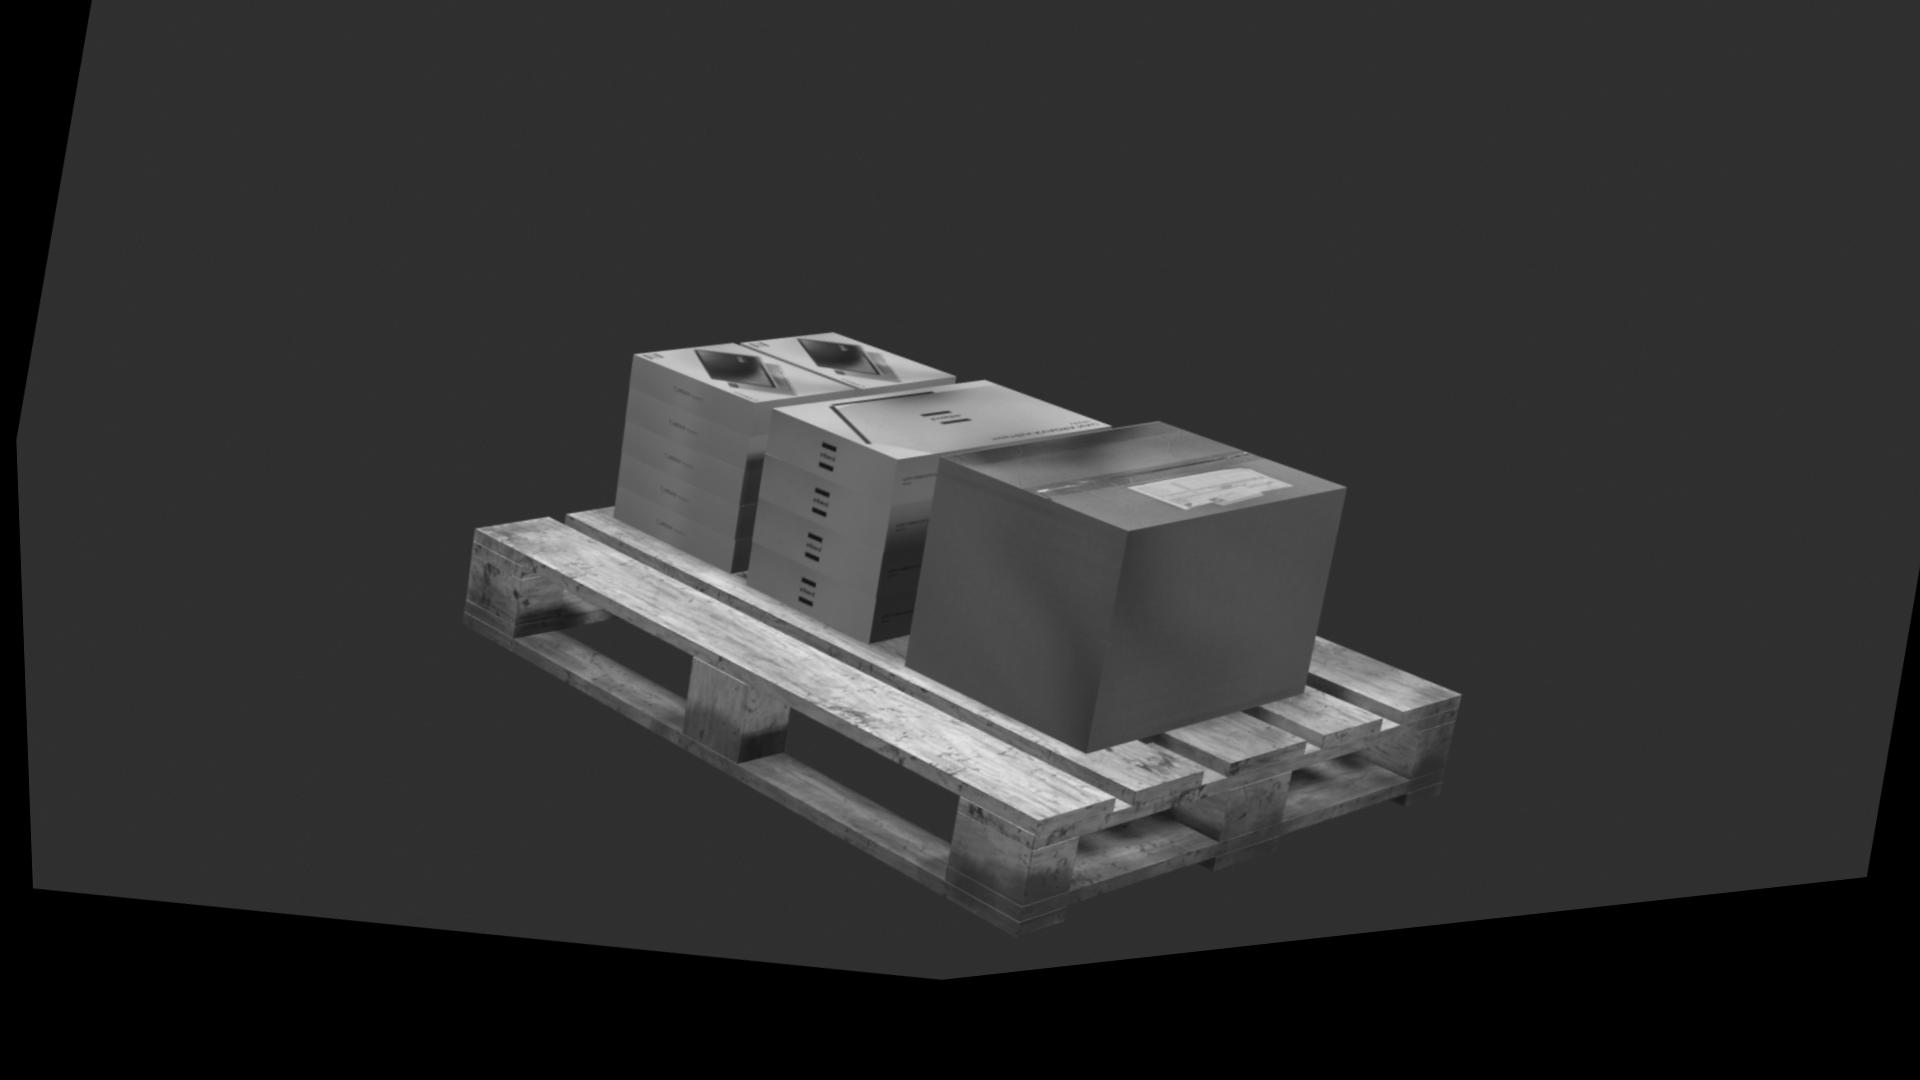group_box_left: (899, 477, 1341, 778)
group_box_top: (936, 447, 1340, 556)
laptop_left: (753, 471, 927, 574), (740, 559, 911, 663), (746, 516, 919, 618), (761, 426, 936, 526)
laptop_top: (771, 402, 1106, 480)
palet: (456, 520, 1458, 964)
tablet_left: (613, 467, 753, 556), (624, 369, 769, 455), (609, 500, 746, 589), (617, 435, 757, 522), (620, 405, 764, 489)
tablet_top: (630, 360, 849, 419), (740, 351, 952, 409)
